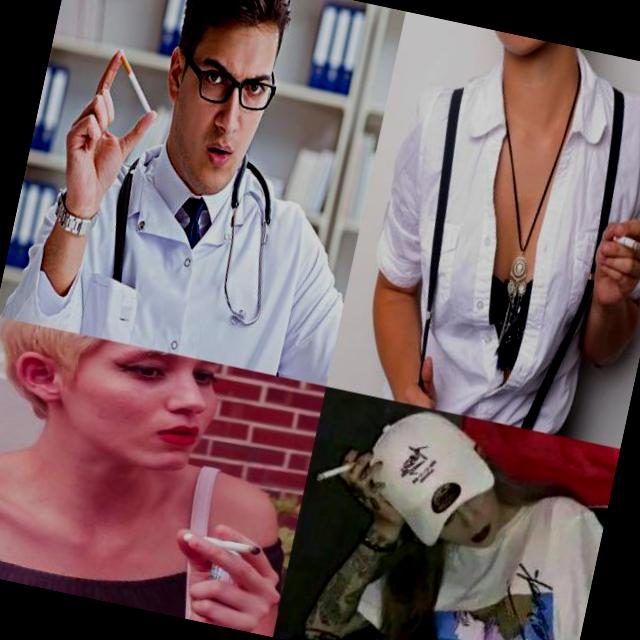smoke: (105, 48, 163, 114), (180, 530, 262, 558), (312, 451, 360, 490), (609, 232, 640, 254)
